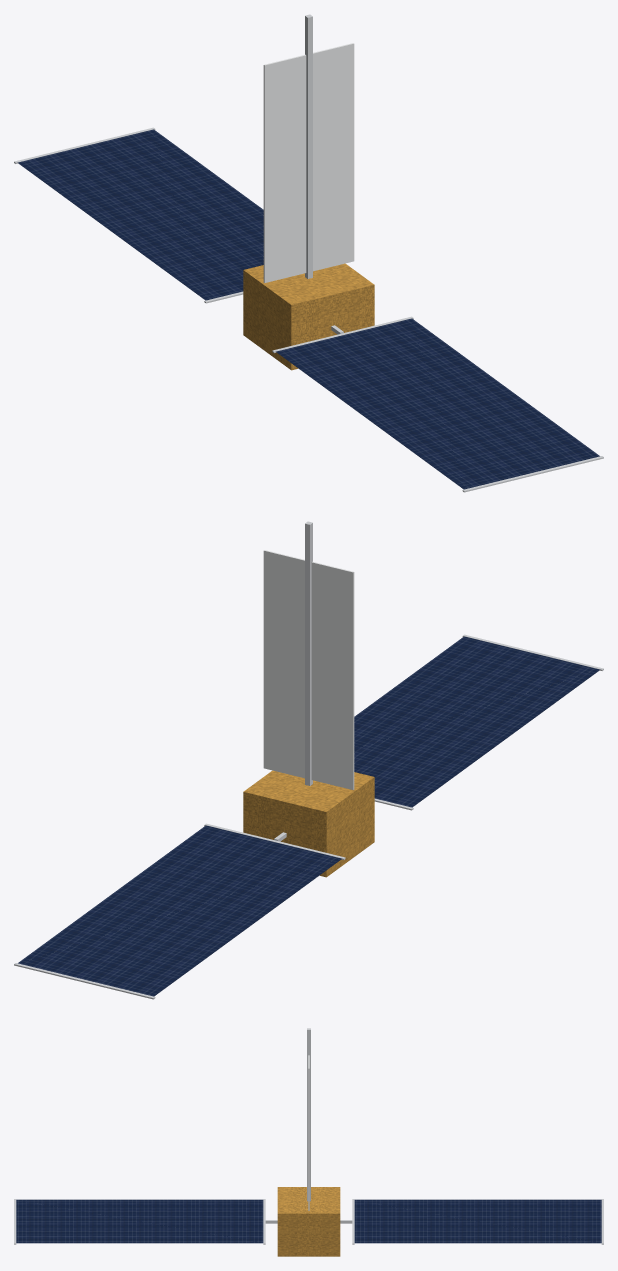
The model's file is starmind.glb.
3 renders of one model, top to bottom at view 1: azimuth 30°, elevation 25°; view 2: azimuth 150°, elevation 25°; view 3: azimuth 270°, elevation 25°, orthographic. The views are drawn at different scales.
Visible parts, largest first — view 1: Wing+, Wing-, Radiator-, Radiator+, Bus, Mast; view 2: Wing-, Wing+, Radiator-, Radiator+, Bus, Mast; view 3: Wing+, Wing-, Bus, Mast.
Part boxes in pixels (x1,y1,x2,y2): Wing+: (276,318,599,489); Wing-: (17,129,263,300); Radiator-: (263,54,306,282); Radiator+: (313,43,354,271); Bus: (243,263,374,370); Mast: (305,14,312,278); Wing-: (18,825,341,996); Wing+: (354,636,600,807); Radiator-: (311,561,354,789); Radiator+: (263,550,304,778); Bus: (243,770,374,877); Mast: (305,521,312,785); Wing+: (16,1199,263,1243); Wing-: (354,1199,601,1243); Bus: (277,1187,340,1256); Mast: (307,1028,310,1201).
Size of the model in its own units: 13.43 by 30.02 by 75.
6 materials, 3 textured.
